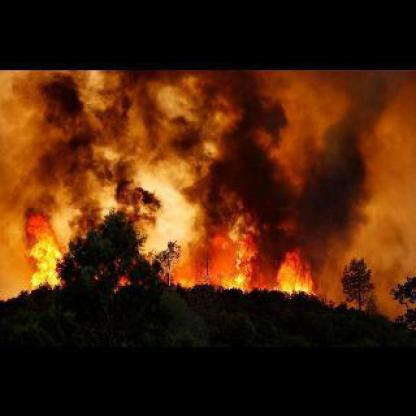fire: (175, 227, 321, 301), (13, 205, 72, 299)
